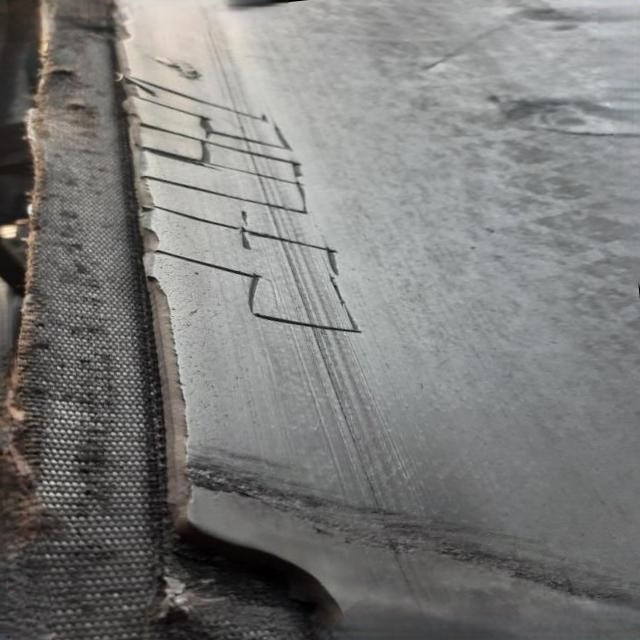Tear: (121, 76, 370, 340)
